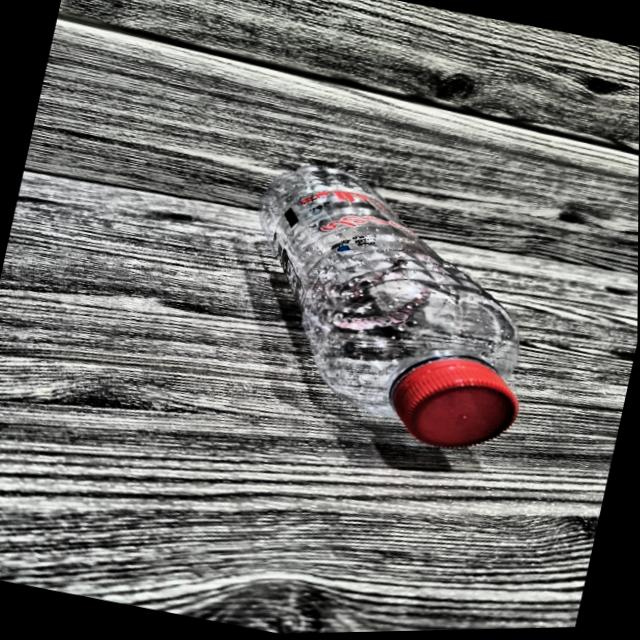Bottles: (156, 121, 586, 525)
